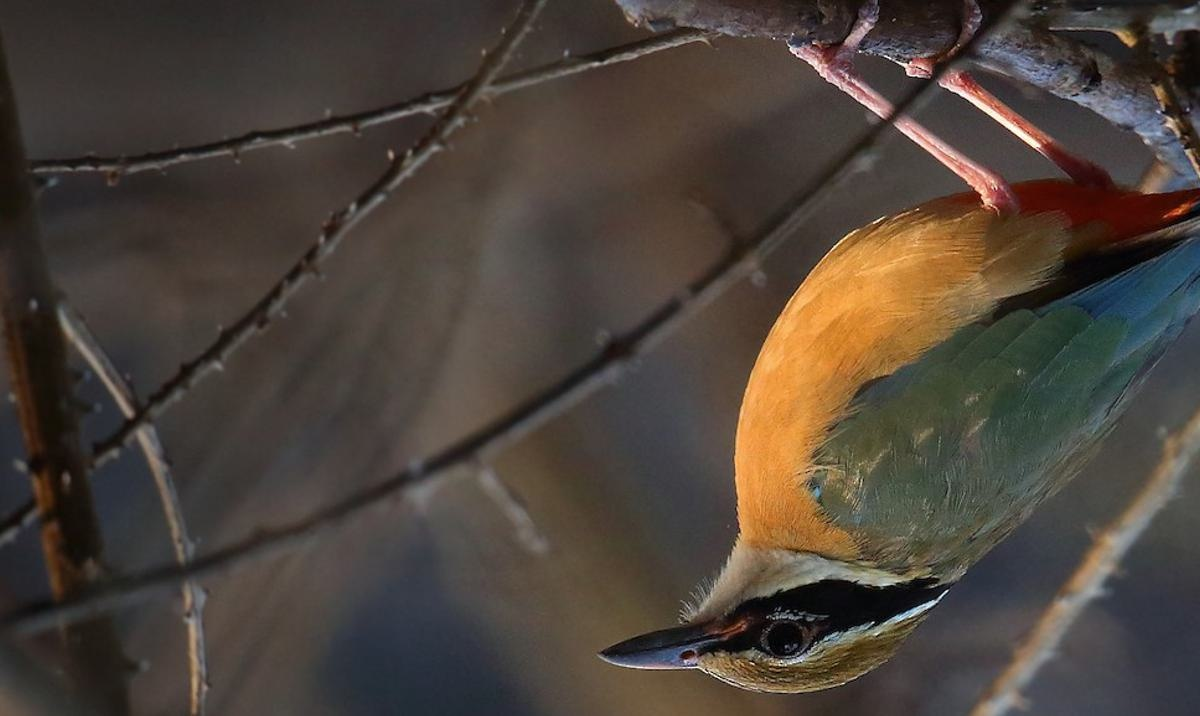pitta: (608, 106, 1194, 699)
